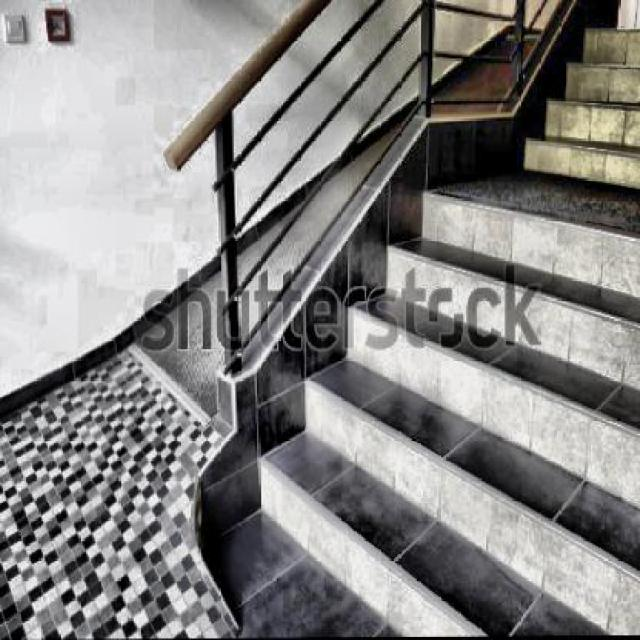stair: (214, 108, 638, 637)
